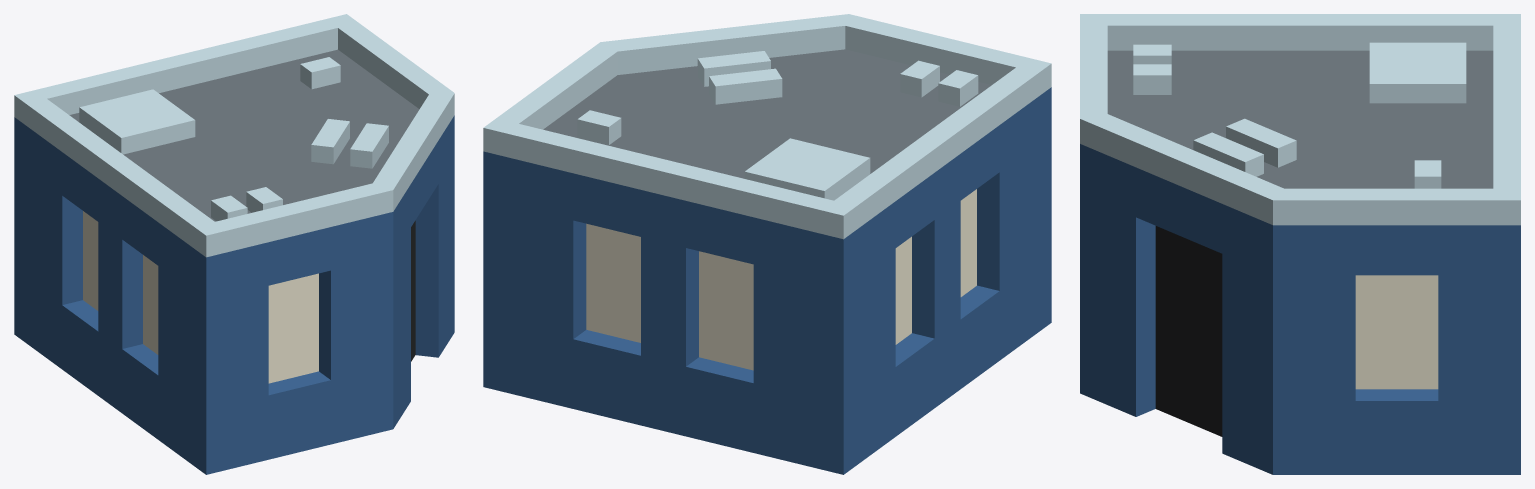
Rendered from Building_10_Extra (Blue).obj.
3 views of the same model, side by side, from view 1: azimuth 30°, elevation 25°; view 2: azimuth 150°, elevation 25°; view 3: azimuth 270°, elevation 25° (orthographic). The views are drawn at different scales.
Visible parts, largest first — view 1: Building_10_Extra_(Blue); view 2: Building_10_Extra_(Blue); view 3: Building_10_Extra_(Blue).
Boxes of the visible parts, box(x1,y1,x2,y2) form: Building_10_Extra_(Blue): box(14, 14, 454, 474); Building_10_Extra_(Blue): box(483, 14, 1051, 474); Building_10_Extra_(Blue): box(1080, 14, 1520, 474).
Size of the model in its own units: 1.6 by 1.1 by 1.6.
